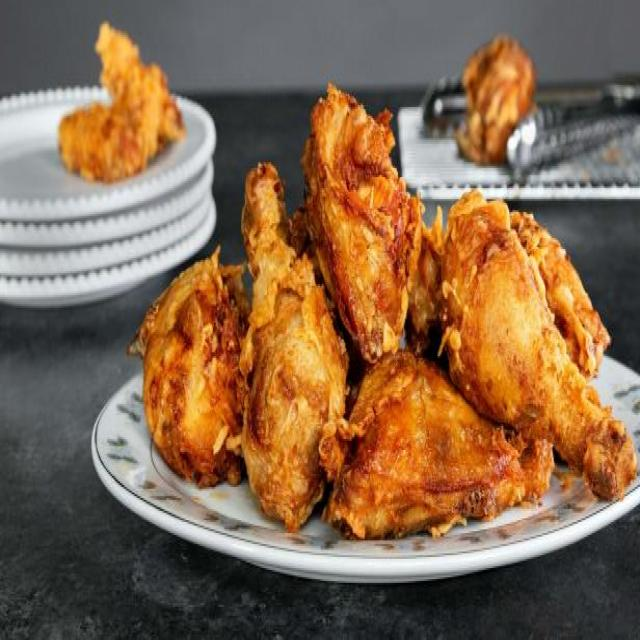Frango: (127, 81, 640, 541), (56, 24, 186, 179)
